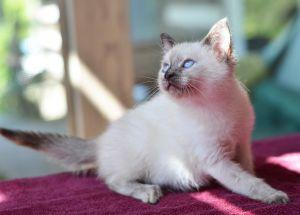siamese: (154, 15, 240, 107)
